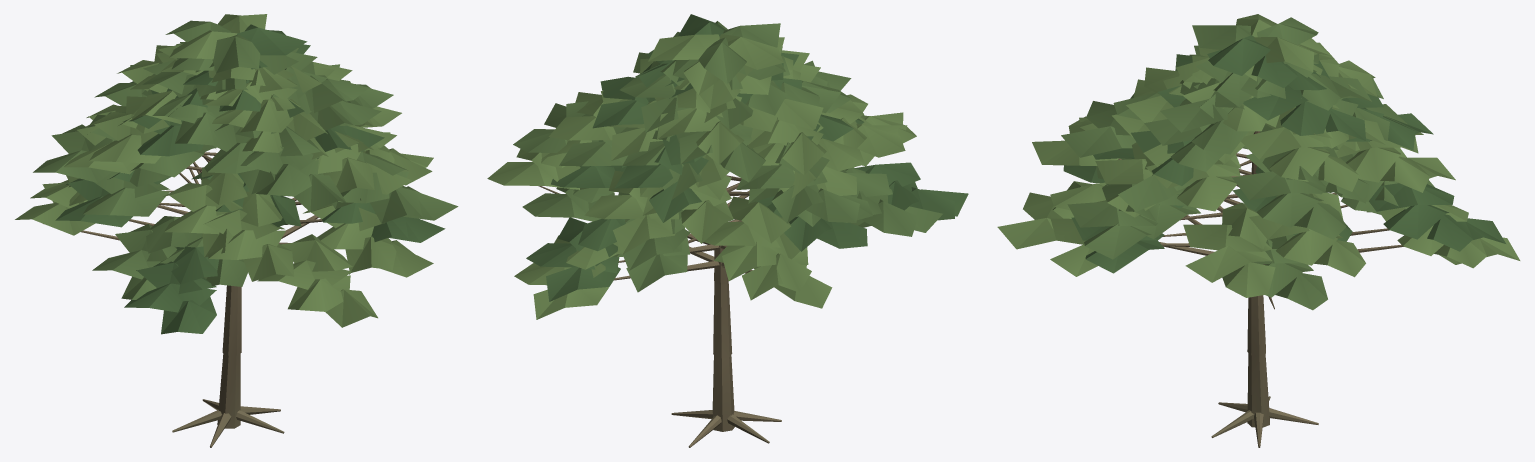
File: taiga-rowan.glb
3 views of the same model, side by side, from view 1: azimuth 30°, elevation 25°; view 2: azimuth 150°, elevation 25°; view 3: azimuth 270°, elevation 25° (orthographic).
Visible parts, largest first — view 1: Рябина; view 2: Рябина; view 3: Рябина.
Part boxes in pixels (box(x1,y1,x2,y2)): Рябина: box(15, 14, 458, 447); Рябина: box(487, 14, 968, 447); Рябина: box(997, 14, 1520, 447).
Bounding box in the file's own units: 8.52 × 8.8 × 10.55.
